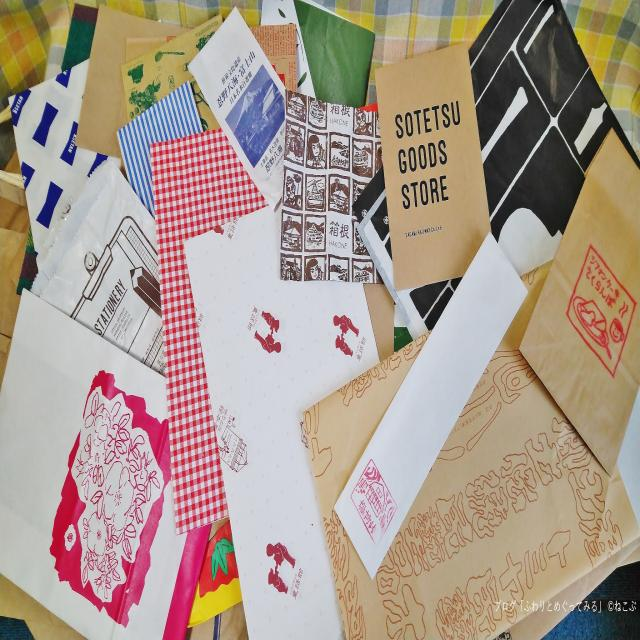paper: (296, 265, 640, 640), (0, 165, 219, 640), (183, 205, 396, 640), (466, 0, 640, 470), (193, 0, 391, 291), (8, 4, 212, 150), (376, 39, 495, 288)
